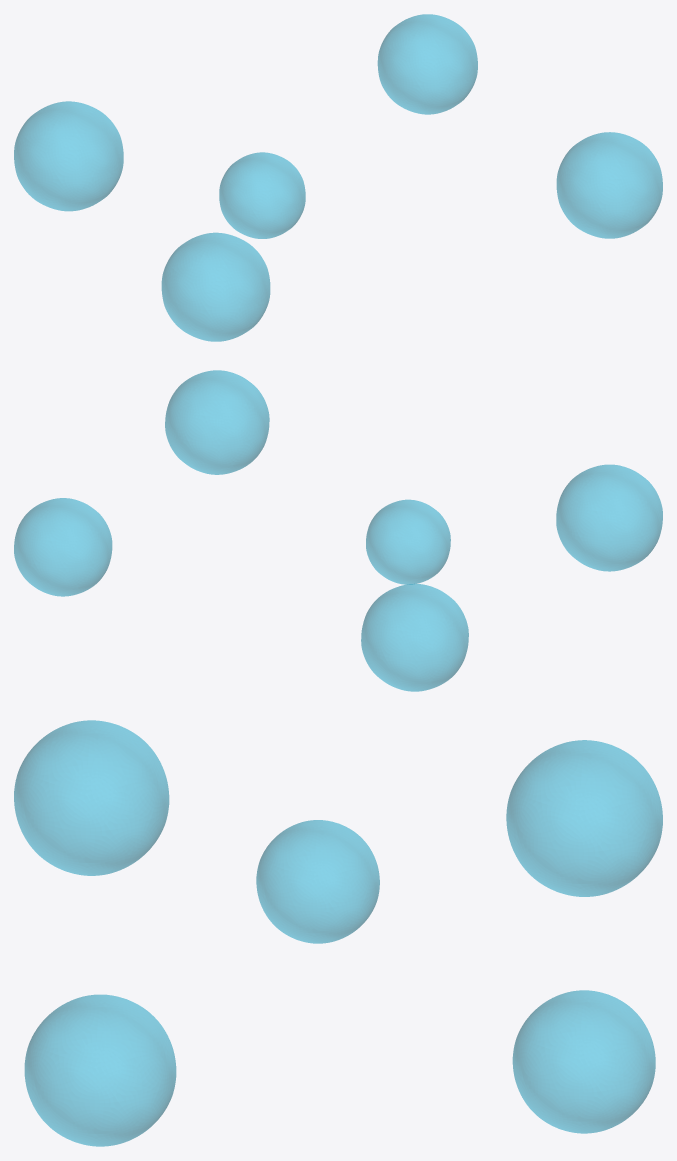
The model's file is waterSky002_02.fbx.
3 views of the same model, one above another, from view 1: azimuth 30°, elevation 25°; view 2: azimuth 150°, elevation 25°; view 3: azimuth 270°, elevation 25° (orthographic). The views are drawn at different scales.
Visible parts, largest first — view 1: waterSky002.002; view 2: waterSky002.002; view 3: waterSky002.002.
Part boxes in pixels (left/top/right/bottom): waterSky002.002: left=14, top=14, right=662, bottom=341; waterSky002.002: left=14, top=370, right=662, bottom=691; waterSky002.002: left=14, top=720, right=662, bottom=1146.
Bounding box in the file's own units: 136 × 27.35 × 109.
